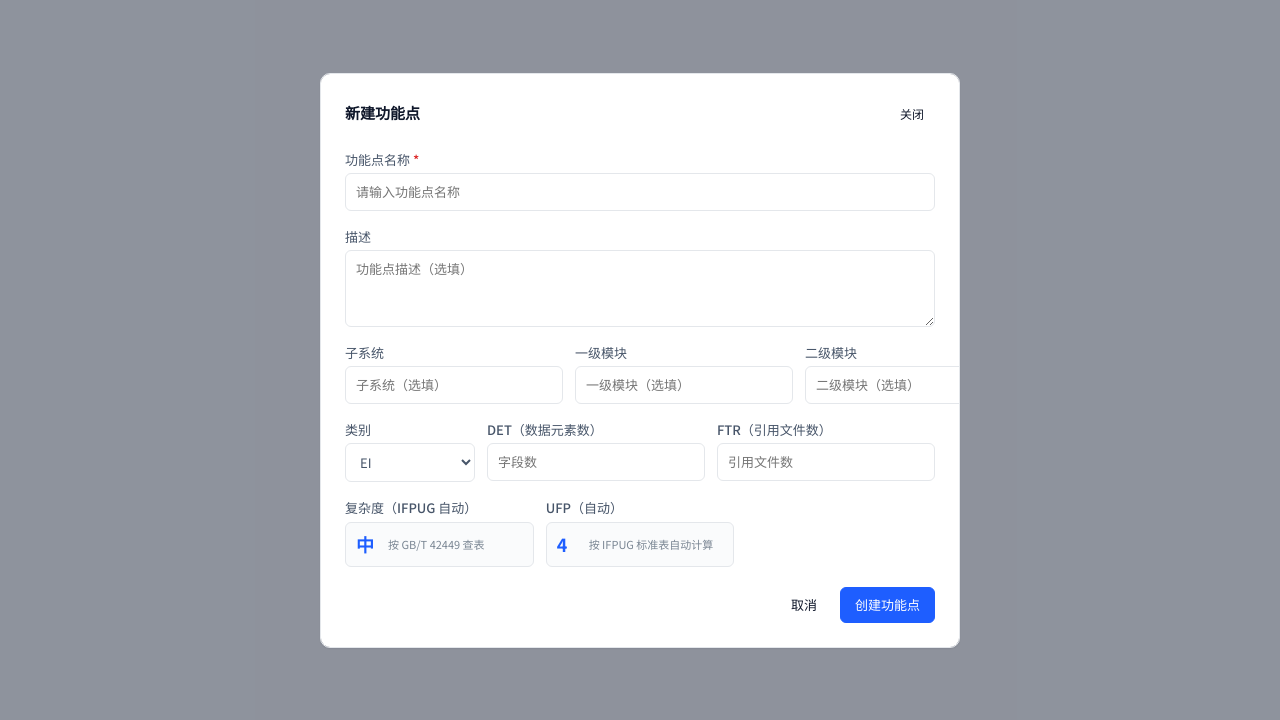
FpFormModal — IFPUG 复杂度联动 › EI + DET 3 + FTR 1 → 复杂度 low、UFP 3
This screenshot has width=1280, height=720.
Select "EI" in the dropdown with id "fp-category": (410, 462) [345,443,475,482]
In the number field with id "fp-det": (596, 462) [487,443,705,480], type "3"
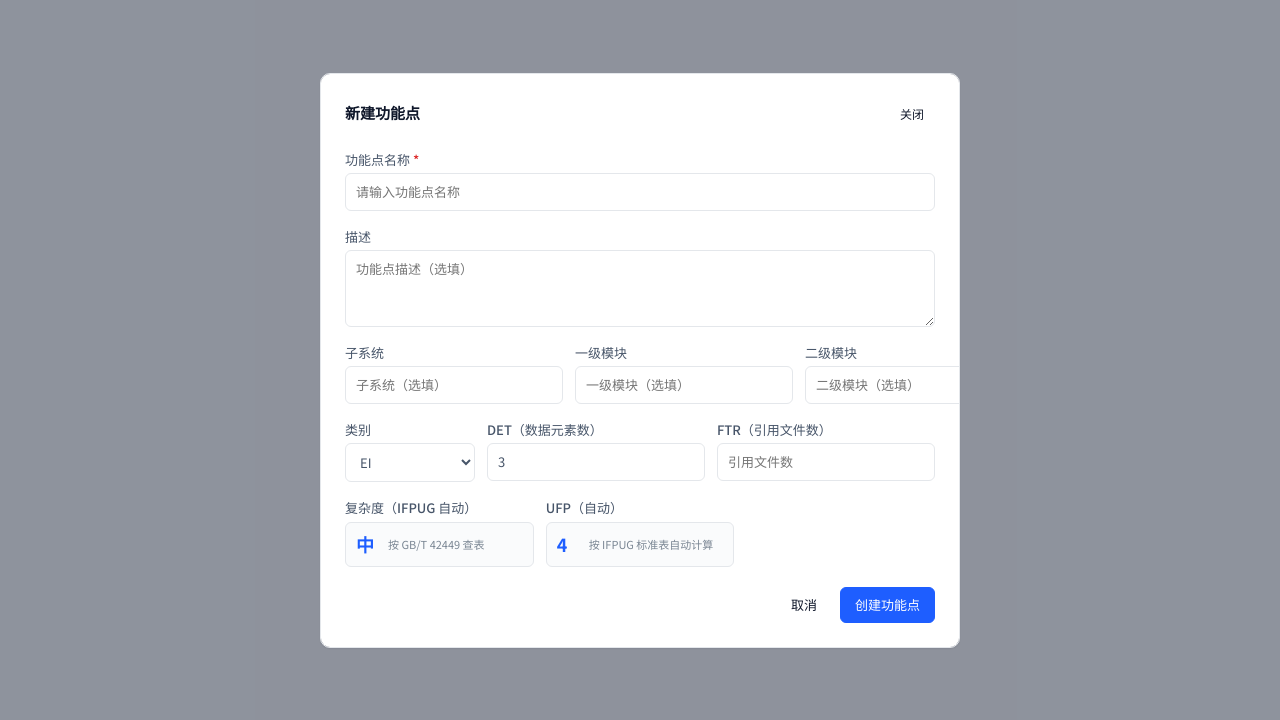
In the number field with id "fp-ftr": (826, 462) [717,443,935,480], type "1"
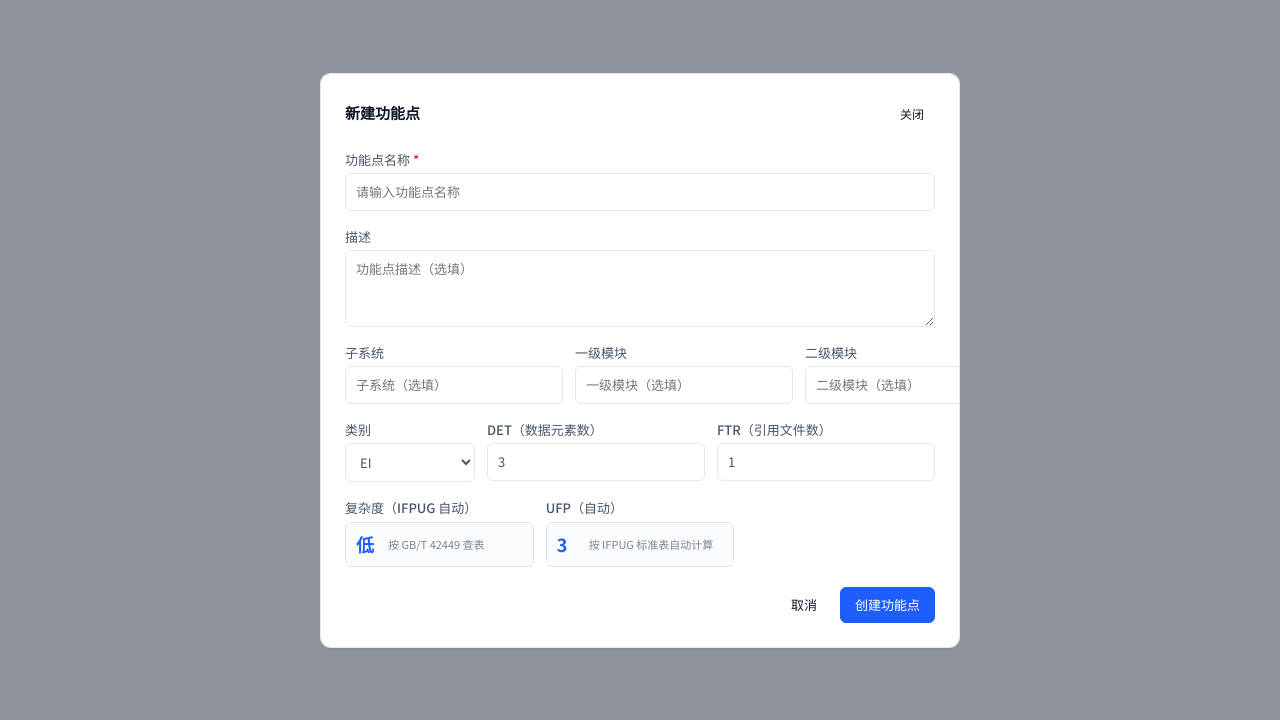
Now the text with test id "fp-complexity-auto" reads "低", box [356,530,374,556]
Now the text "3" is shown, box [557,530,567,556]
